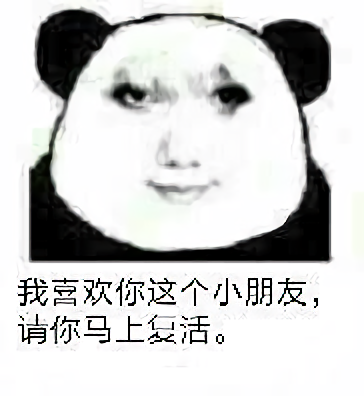dragon: (100, 66, 265, 211)
